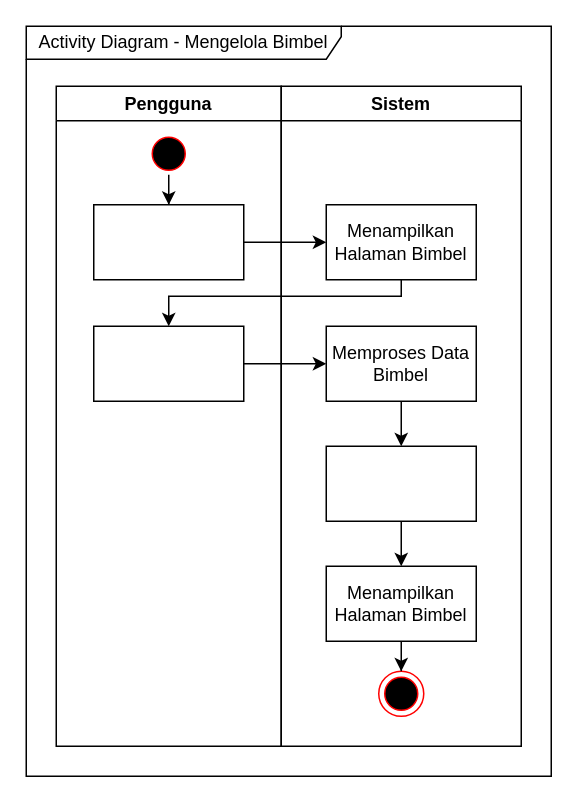
Image size: 578x803. Some labels were removed from this diagram. Here are the shapes that lost their labels. From the top down, the centre of each, then its label:
At [168,241]: "Membuka Menu Bimbel".
At [168,363]: "Tambah / Ubah / Hapus Data Bimbel".
At [400,483]: "Menyimpan Data Bimbel".
